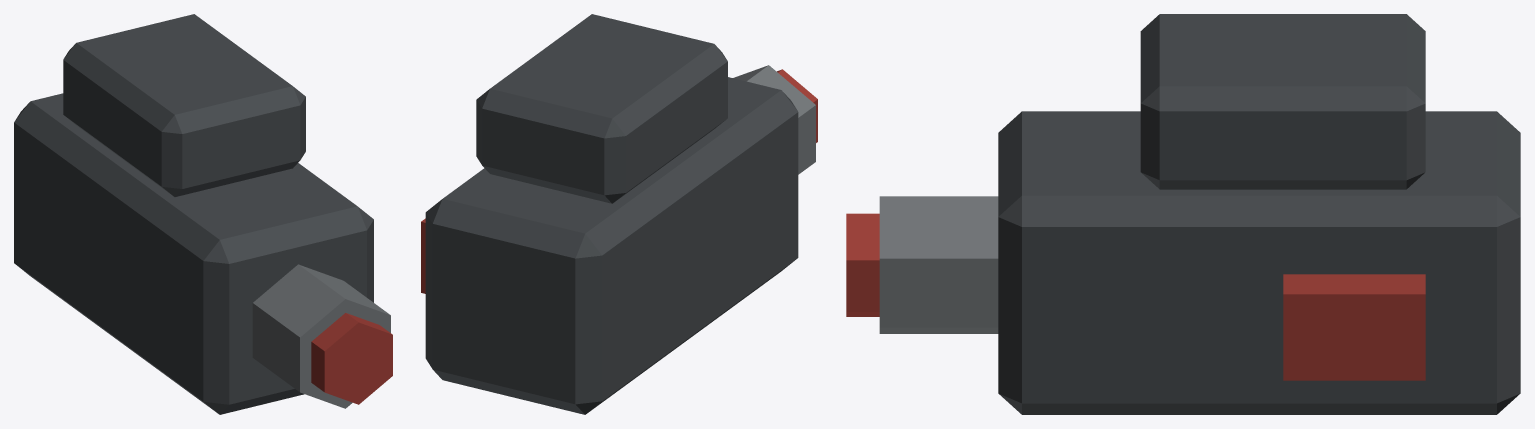
The model's file is mod_laser.glb.
The picture shows the model from 3 angles, left to right: view 1: azimuth 30°, elevation 25°; view 2: azimuth 150°, elevation 25°; view 3: azimuth 270°, elevation 25°; orthographic projection. The views are drawn at different scales.
Visible parts, largest first — view 1: laser; view 2: laser; view 3: laser.
Part boxes in pixels (x1,y1,x2,y2): laser: (14, 14, 392, 414); laser: (421, 14, 817, 414); laser: (846, 14, 1520, 414).
Size of the model in its own units: 0.062 by 0.075 by 0.142.
